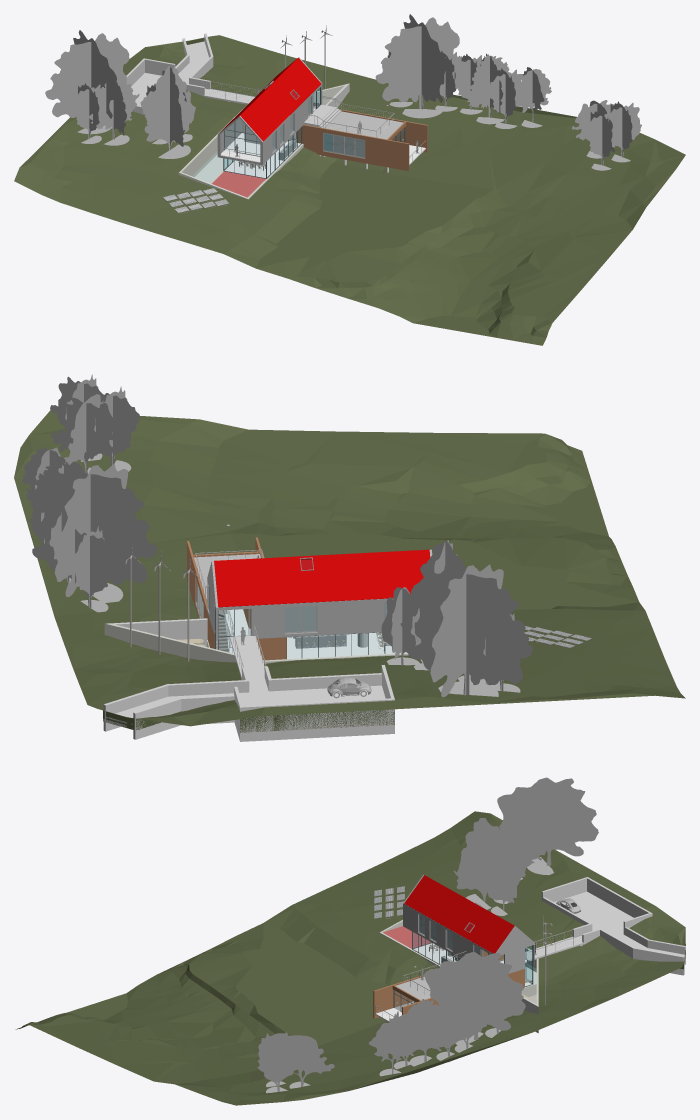
3 renders of one model, top to bottom at view 1: azimuth 30°, elevation 25°; view 2: azimuth 150°, elevation 25°; view 3: azimuth 270°, elevation 25°, orthographic. The views are drawn at different scales.
Visible parts, largest first — view 1: 3ZGD7y6S5209$mGLi_sPll, 2kYqvrv7r7Ee9Lf6DEVctg, 2kYqvrv7r7Ee9Lf6DEVd2D, 2cgXCjpDT0ZxBvxMSr3pfm, 2kYqvrv7r7Ee9Lf6DEVcq_, 2OulbipBrAkwQNv_KJRV9c, 2kYqvrv7r7Ee9Lf6DEVcvD, 2kYqvrv7r7Ee9Lf6DEVcn3, 2kYqvrv7r7Ee9Lf6DEVclx, 2kYqvrv7r7Ee9Lf6DEVcpT, 0LKJKCHUL1kBtnlFXddz6a, 2kYqvrv7r7Ee9Lf6DEVclA (+11 smaller); view 2: 3ZGD7y6S5209$mGLi_sPll, 2kYqvrv7r7Ee9Lf6DEVd2D, 2kYqvrv7r7Ee9Lf6DEVctg, 2cgXCjpDT0ZxBvxMSr3pfm, 38NblWsDL1I8DljLvn67bV, 3_T6_Ndub6XO_ef59N4DRY, 2kYqvrv7r7Ee9Lf6DEVcim, 2kYqvrv7r7Ee9Lf6DEVctv, 38BWtPCUX0VgAKmmGnoKyb, 0NWseyvsH7_gBW225aGtx$, 2kYqvrv7r7Ee9Lf6DEVclx, 2kYqvrv7r7Ee9Lf6DEVcw_ (+19 smaller); view 3: 3ZGD7y6S5209$mGLi_sPll, 2kYqvrv7r7Ee9Lf6DEVd2D, 2kYqvrv7r7Ee9Lf6DEVctg, 2cgXCjpDT0ZxBvxMSr3pfm, 2kYqvrv7r7Ee9Lf6DEVcq_, 38BWtPCUX0VgAKmmGnoKyb, 2kYqvrv7r7Ee9Lf6DEVclA, 2kYqvrv7r7Ee9Lf6DEVcvD, 2kYqvrv7r7Ee9Lf6DEVcpT, 2kYqvrv7r7Ee9Lf6DEVcn3, 38NblWsDL1I8DljLvn67cw, 2kYqvrv7r7Ee9Lf6DEVcw_ (+12 smaller).
Boxes of the visible parts, x1,y1,x2,y2 form: 3ZGD7y6S5209$mGLi_sPll: (14, 35, 685, 345); 2kYqvrv7r7Ee9Lf6DEVctg: (375, 14, 459, 118); 2kYqvrv7r7Ee9Lf6DEVd2D: (45, 30, 129, 134); 2cgXCjpDT0ZxBvxMSr3pfm: (219, 57, 321, 141); 2kYqvrv7r7Ee9Lf6DEVcq_: (144, 66, 195, 158); 2OulbipBrAkwQNv_KJRV9c: (302, 124, 409, 170); 2kYqvrv7r7Ee9Lf6DEVcvD: (89, 77, 139, 145); 2kYqvrv7r7Ee9Lf6DEVcn3: (465, 53, 509, 124); 2kYqvrv7r7Ee9Lf6DEVclx: (584, 110, 621, 170); 2kYqvrv7r7Ee9Lf6DEVcpT: (514, 67, 551, 127); 0LKJKCHUL1kBtnlFXddz6a: (325, 111, 403, 139); 2kYqvrv7r7Ee9Lf6DEVclA: (606, 101, 641, 162); 3ZGD7y6S5209$mGLi_sPll: (14, 410, 685, 732); 2kYqvrv7r7Ee9Lf6DEVd2D: (407, 561, 532, 706); 2kYqvrv7r7Ee9Lf6DEVctg: (32, 461, 157, 602); 2cgXCjpDT0ZxBvxMSr3pfm: (214, 549, 430, 607); 38NblWsDL1I8DljLvn67bV: (218, 598, 393, 638); 3_T6_Ndub6XO_ef59N4DRY: (239, 698, 391, 741); 2kYqvrv7r7Ee9Lf6DEVcim: (50, 394, 123, 473); 2kYqvrv7r7Ee9Lf6DEVctv: (68, 526, 116, 612); 38BWtPCUX0VgAKmmGnoKyb: (106, 685, 385, 724); 0NWseyvsH7_gBW225aGtx$: (104, 623, 236, 662); 2kYqvrv7r7Ee9Lf6DEVclx: (87, 386, 139, 471); 2kYqvrv7r7Ee9Lf6DEVcw_: (381, 587, 419, 665); 3ZGD7y6S5209$mGLi_sPll: (15, 811, 685, 1105); 2kYqvrv7r7Ee9Lf6DEVd2D: (497, 777, 598, 875); 2kYqvrv7r7Ee9Lf6DEVctg: (424, 952, 525, 1045); 2cgXCjpDT0ZxBvxMSr3pfm: (404, 875, 514, 953); 2kYqvrv7r7Ee9Lf6DEVcq_: (453, 818, 511, 909); 38BWtPCUX0VgAKmmGnoKyb: (554, 891, 684, 956); 2kYqvrv7r7Ee9Lf6DEVclA: (257, 1038, 304, 1093); 2kYqvrv7r7Ee9Lf6DEVcvD: (499, 811, 549, 879); 2kYqvrv7r7Ee9Lf6DEVcpT: (368, 1021, 413, 1076); 2kYqvrv7r7Ee9Lf6DEVcn3: (406, 999, 456, 1066); 38NblWsDL1I8DljLvn67cw: (404, 904, 492, 958); 2kYqvrv7r7Ee9Lf6DEVcw_: (487, 857, 518, 915).
Size of the model in its own units: 83.55 by 24.31 by 87.2.
